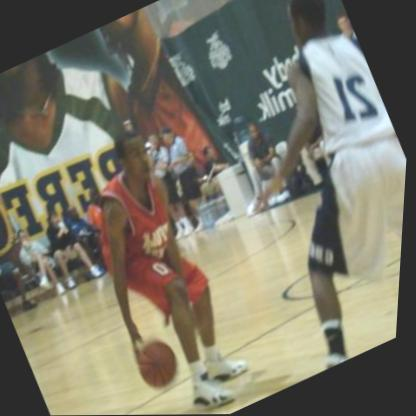basketball: (133, 334, 192, 395)
